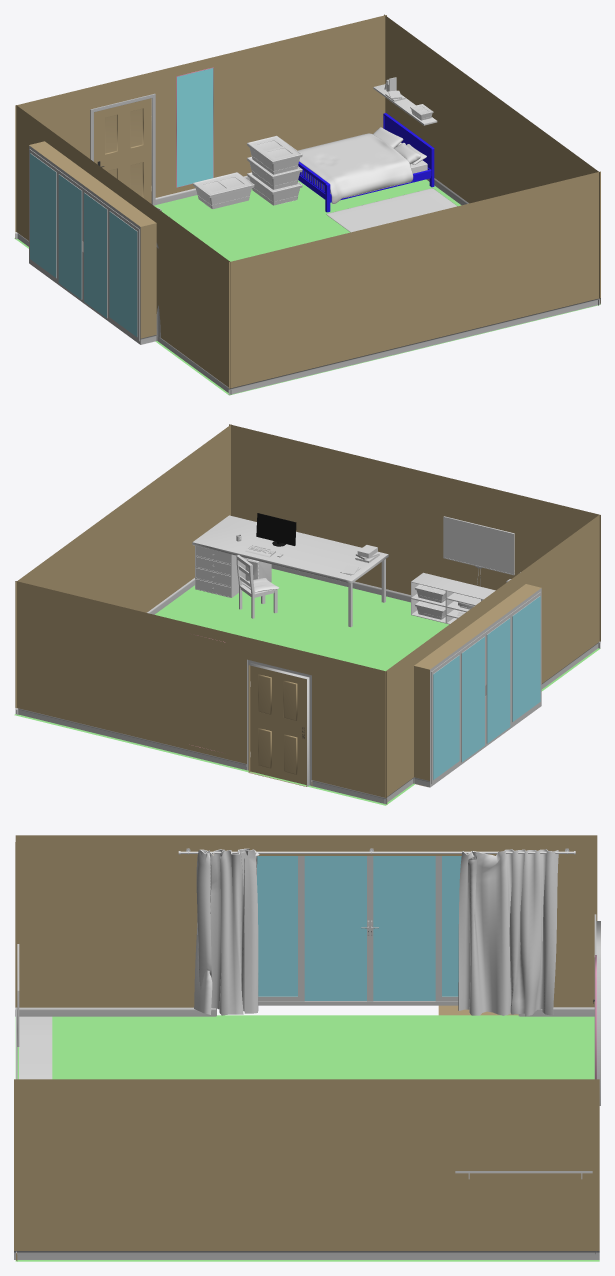
File: whole_room.FBX
3 renders of one model, top to bottom at view 1: azimuth 30°, elevation 25°; view 2: azimuth 150°, elevation 25°; view 3: azimuth 270°, elevation 25°, orthographic. The views are drawn at different scales.
Parts seen in each view (by area): view 1: Wall2, Wall3, Right handle, Wall1, Floor, Duvet, Mirror, Rug, Bedframe, Box004, Box003, Box001 (+1 smaller); view 2: Wall3, Right handle, Wall2, Wall1, Floor, Desk, TV, Console shelf, Moniter, Chair; view 3: Wall1, Right handle, Floor, Right curtain, Left Curtain, Console shelf, Wall3, Curtain pole.
Boxes of the visible parts, x1,y1,x2,y2 form: Wall2: (228, 171, 600, 394); Wall3: (15, 15, 386, 239); Right handle: (16, 105, 231, 394); Wall1: (384, 14, 599, 305); Floor: (14, 179, 600, 395); Duvet: (298, 133, 413, 204); Mirror: (176, 67, 213, 187); Rug: (326, 188, 457, 232); Bedframe: (298, 113, 434, 212); Box004: (192, 172, 254, 208); Box003: (247, 135, 302, 174); Box001: (247, 172, 302, 205); Wall3: (15, 581, 387, 804); Right handle: (384, 515, 599, 804); Wall2: (229, 424, 600, 648); Wall1: (15, 424, 231, 715); Floor: (14, 568, 600, 805); Desk: (192, 515, 388, 627); TV: (443, 516, 514, 575); Console shelf: (411, 572, 495, 624); Moniter: (256, 513, 296, 546); Chair: (236, 555, 277, 618); Wall1: (14, 1079, 599, 1259); Right handle: (15, 835, 597, 1016); Floor: (15, 1015, 599, 1261); Right curtain: (458, 849, 558, 1016); Left Curtain: (194, 848, 259, 1015); Console shelf: (19, 1016, 52, 1079); Wall3: (594, 914, 600, 1253); Curtain pole: (178, 848, 575, 854).
Bounding box in the file's own units: 7296 × 2407 × 7054.
